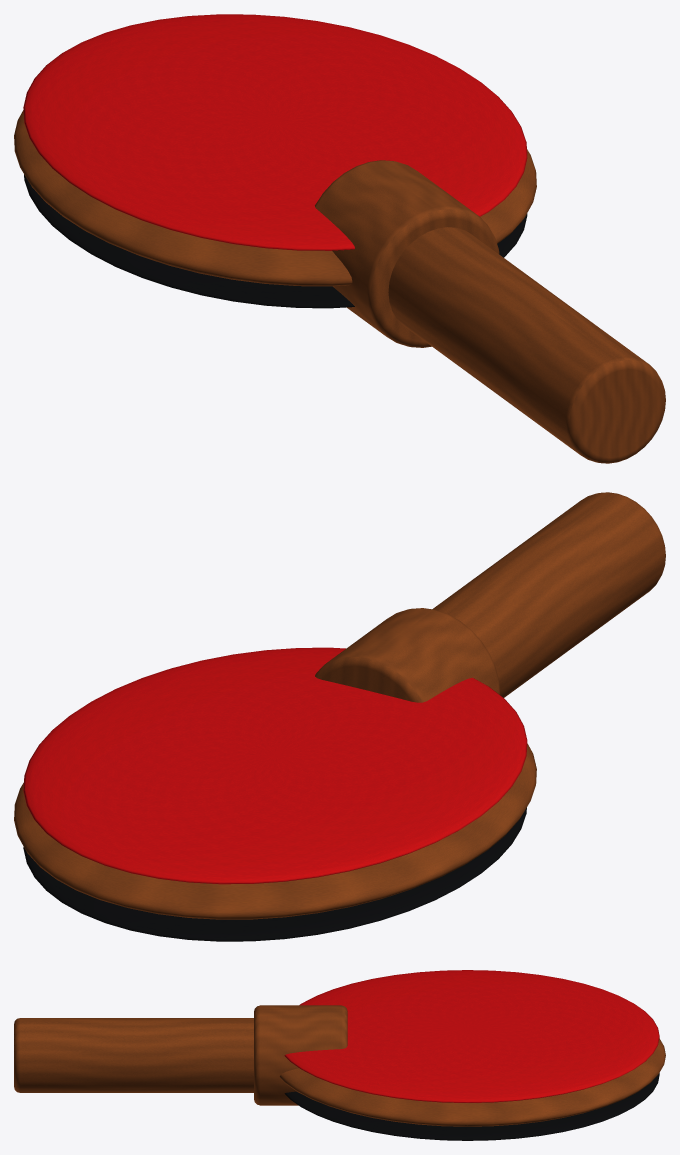
File: paleta.obj
3 renders of one model, top to bottom at view 1: azimuth 30°, elevation 25°; view 2: azimuth 150°, elevation 25°; view 3: azimuth 270°, elevation 25°, orthographic. The views are drawn at different scales.
Parts seen in each view (by area): view 1: Paleta_Goma_Roja, Paleta_Mango, Paleta_Nucleo_Madera, Paleta_Cuello, Paleta_Goma_Negra; view 2: Paleta_Goma_Roja, Paleta_Mango, Paleta_Nucleo_Madera, Paleta_Cuello, Paleta_Goma_Negra; view 3: Paleta_Goma_Roja, Paleta_Mango, Paleta_Nucleo_Madera, Paleta_Cuello, Paleta_Goma_Negra.
Boxes of the visible parts, left/top/right/bottom form: Paleta_Goma_Roja: left=23, top=14, right=527, bottom=250; Paleta_Mango: left=388, top=227, right=665, bottom=463; Paleta_Nucleo_Madera: left=14, top=110, right=536, bottom=286; Paleta_Cuello: left=315, top=160, right=499, bottom=347; Paleta_Goma_Negra: left=24, top=174, right=527, bottom=308; Paleta_Goma_Roja: left=23, top=647, right=527, bottom=884; Paleta_Mango: left=432, top=492, right=665, bottom=697; Paleta_Nucleo_Madera: left=14, top=743, right=536, bottom=919; Paleta_Cuello: left=315, top=608, right=500, bottom=702; Paleta_Goma_Negra: left=23, top=807, right=526, bottom=941; Paleta_Goma_Roja: left=284, top=970, right=659, bottom=1102; Paleta_Mango: left=14, top=1018, right=253, bottom=1092; Paleta_Nucleo_Madera: left=279, top=1038, right=665, bottom=1126; Paleta_Cuello: left=254, top=1005, right=347, bottom=1105; Paleta_Goma_Negra: left=284, top=1073, right=659, bottom=1140.
Size of the model in its own units: 0.156 by 0.048 by 0.3125.
Materials: 3 (3 with a texture image).
